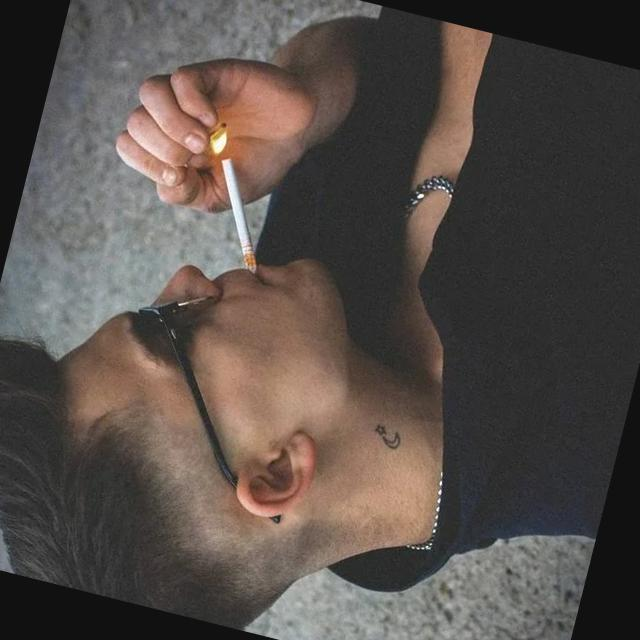smoke: (192, 152, 286, 280)
